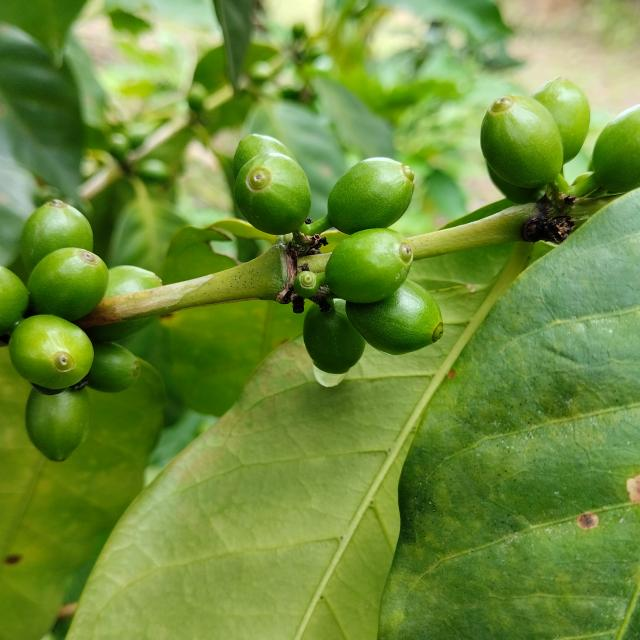green: (481, 94, 564, 188), (346, 280, 444, 355), (327, 157, 415, 234), (325, 228, 413, 303), (234, 151, 311, 235), (8, 315, 93, 390), (26, 247, 108, 321), (20, 199, 92, 271), (533, 77, 591, 164), (25, 387, 89, 462), (303, 299, 366, 374), (593, 104, 640, 193), (232, 133, 296, 178), (86, 342, 140, 393), (488, 164, 545, 204), (0, 266, 28, 336), (103, 265, 161, 298), (84, 318, 152, 342)
